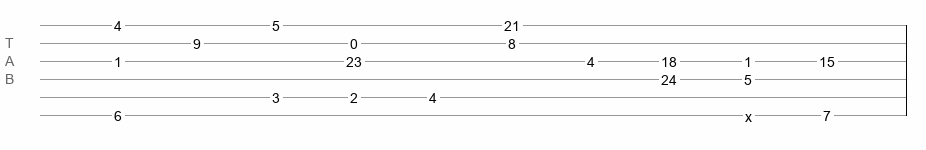0: (350, 36, 358, 46)
1: (114, 54, 122, 64), (744, 54, 752, 64)
15: (819, 54, 835, 64)
18: (661, 54, 677, 64)
2: (350, 90, 358, 100)
21: (504, 18, 520, 28)
23: (346, 54, 362, 64)
24: (661, 72, 677, 82)
3: (272, 90, 280, 100)
4: (114, 18, 122, 28), (429, 90, 437, 100), (587, 54, 595, 64)
5: (272, 18, 280, 28), (744, 72, 752, 82)
6: (114, 108, 122, 118)
7: (823, 108, 831, 118)
8: (508, 36, 516, 46)
9: (193, 36, 201, 46)
x: (745, 109, 752, 117)
